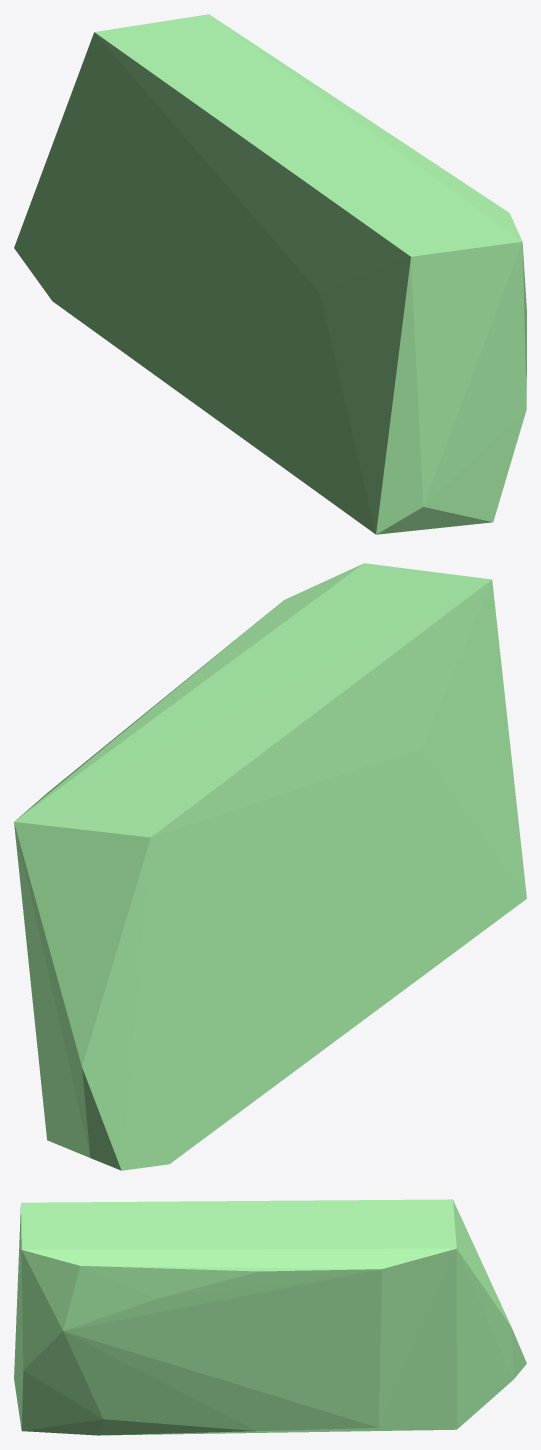
The model's file is UMIRobot_UMIRobot_link_4_convex_coll_13.dae.
3 views of the same model, one above another, from view 1: azimuth 30°, elevation 25°; view 2: azimuth 150°, elevation 25°; view 3: azimuth 270°, elevation 25° (orthographic). The views are drawn at different scales.
Parts seen in each view (by area): view 1: node; view 2: node; view 3: node.
Boxes of the visible parts, x1=… form: node: x1=14, y1=14, x2=526, y2=534; node: x1=14, y1=563, x2=526, y2=1170; node: x1=14, y1=1199, x2=526, y2=1435.
Bounding box in the file's own units: 0.0138 × 0.0206 × 0.0477.
